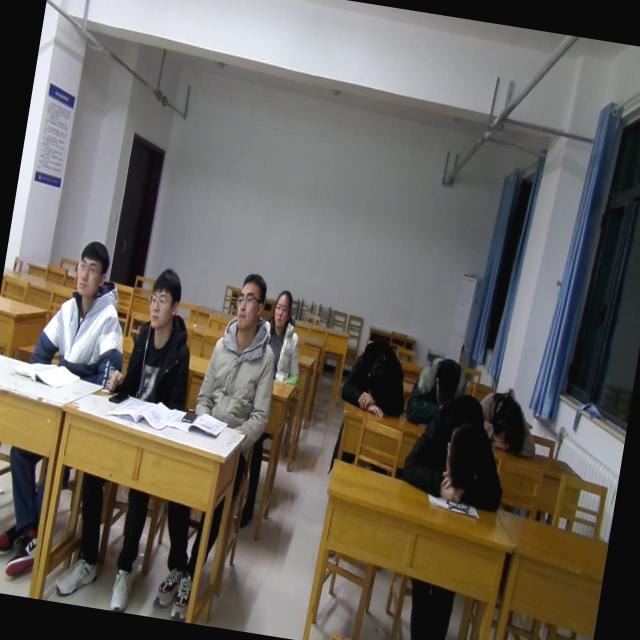bow: (397, 384, 519, 516), (336, 334, 416, 422), (406, 351, 478, 433), (472, 383, 546, 462)
lookup: (66, 234, 116, 304), (140, 262, 188, 334), (226, 267, 272, 332), (267, 282, 296, 337)
sit: (191, 264, 295, 437), (28, 234, 142, 391), (106, 260, 206, 408), (253, 285, 313, 387)
